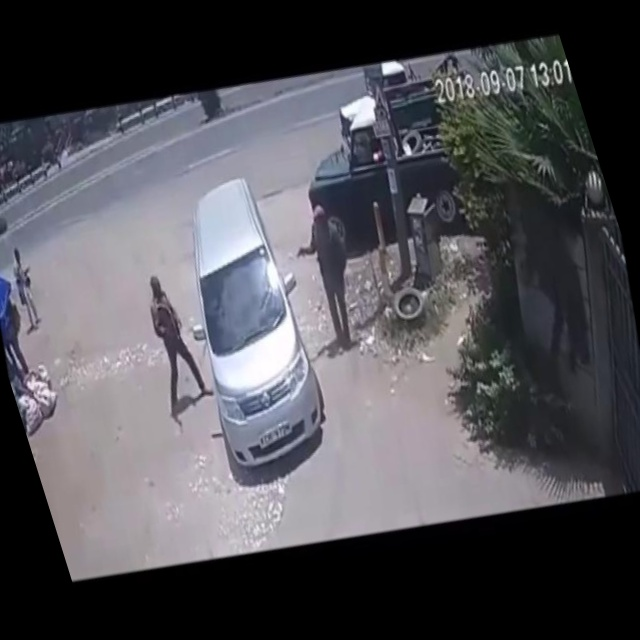gun: (290, 242, 310, 263)
